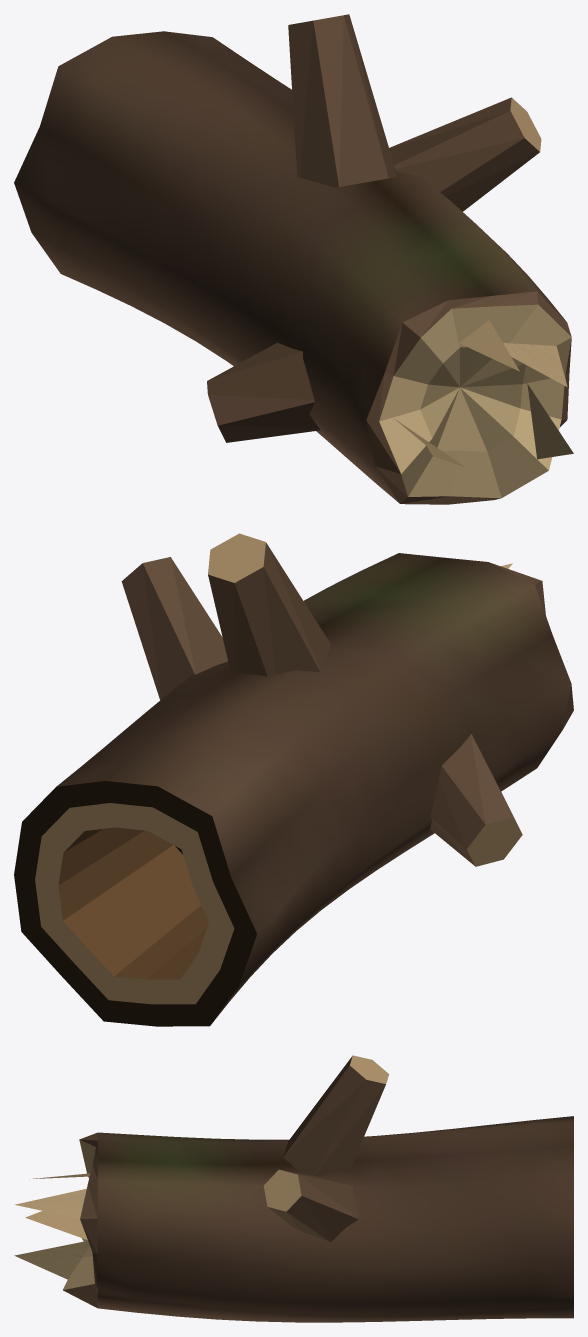
Rendered from log-large-c.glb.
3 views of the same model, one above another, from view 1: azimuth 30°, elevation 25°; view 2: azimuth 150°, elevation 25°; view 3: azimuth 270°, elevation 25° (orthographic). The views are drawn at different scales.
Parts seen in each view (by area): view 1: log-large-c; view 2: log-large-c; view 3: log-large-c.
Part boxes in pixels (x1,y1,x2,y2): log-large-c: (14,14,573,504); log-large-c: (14,533,573,1026); log-large-c: (14,1055,573,1322).
Bounding box in the file's own units: 0.6033 × 0.5857 × 1.14.
